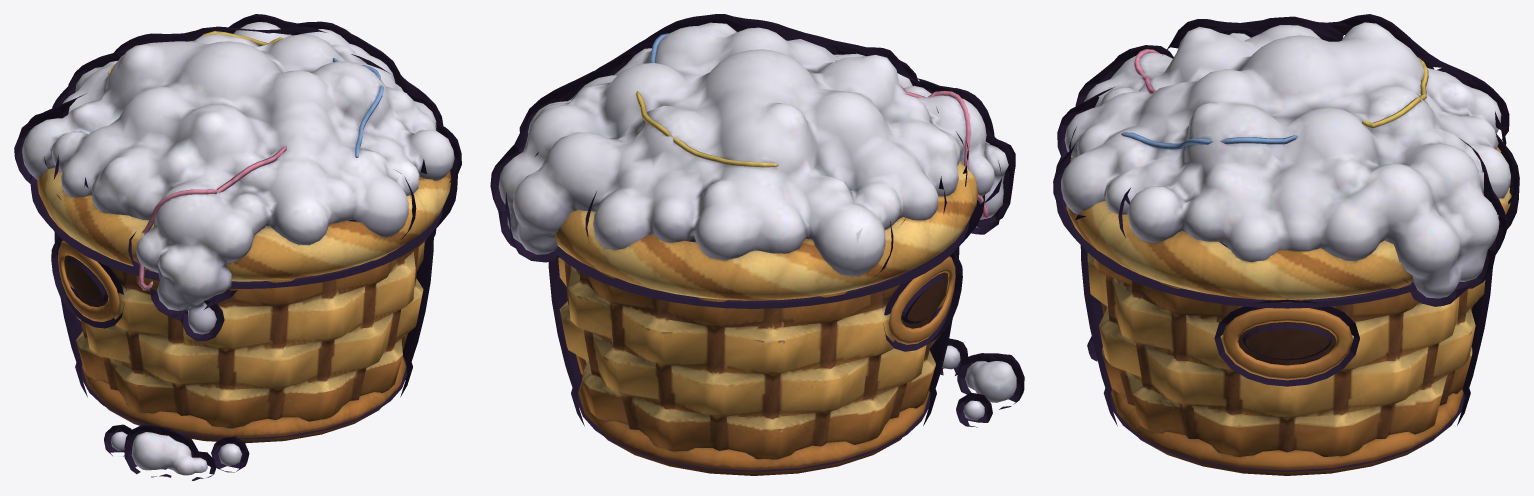
File: Basket.glb
The picture shows the model from 3 angles, left to right: view 1: azimuth 30°, elevation 25°; view 2: azimuth 150°, elevation 25°; view 3: azimuth 270°, elevation 25°; orthographic projection. The views are drawn at different scales.
Visible parts, largest first — view 1: Basket, Basket_Outline; view 2: Basket, Basket_Outline; view 3: Basket, Basket_Outline.
Part boxes in pixels (bbox=[...]): Basket: bbox=[22, 22, 454, 475]; Basket_Outline: bbox=[14, 14, 461, 480]; Basket: bbox=[498, 22, 1016, 475]; Basket_Outline: bbox=[490, 14, 1024, 471]; Basket: bbox=[1061, 22, 1511, 475]; Basket_Outline: bbox=[1053, 14, 1519, 471].
Bounding box in the file's own units: 3.51 × 3.11 × 3.52.
2 materials, 2 textured.
